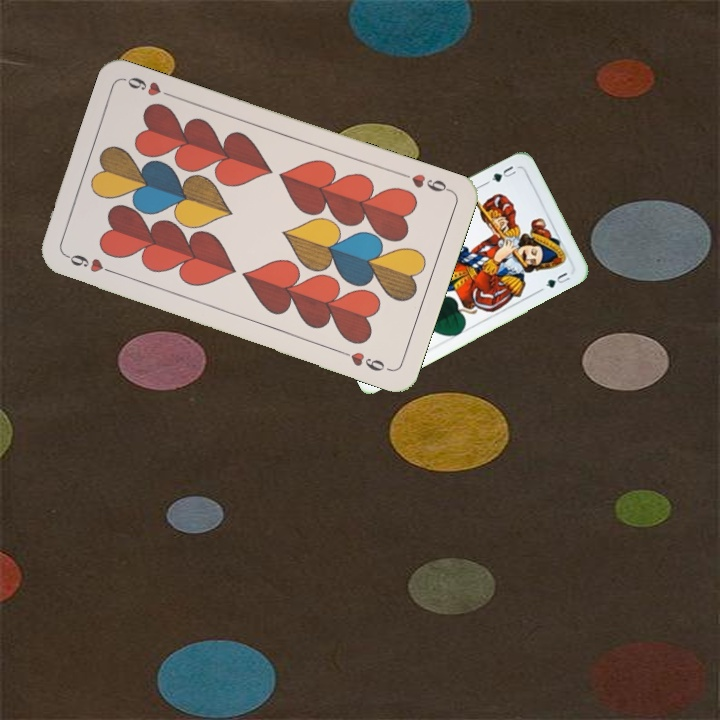GU: (487, 161, 519, 185)
H9: (396, 168, 454, 195), (62, 250, 119, 277)
